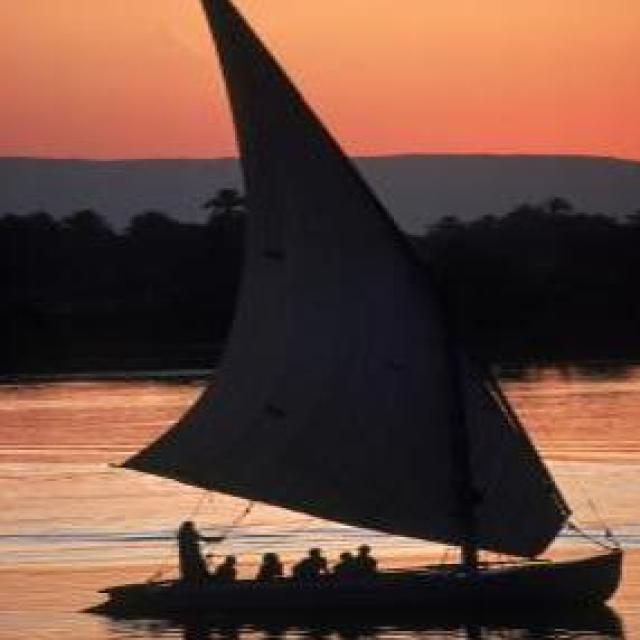sailboat: (96, 0, 624, 618)
